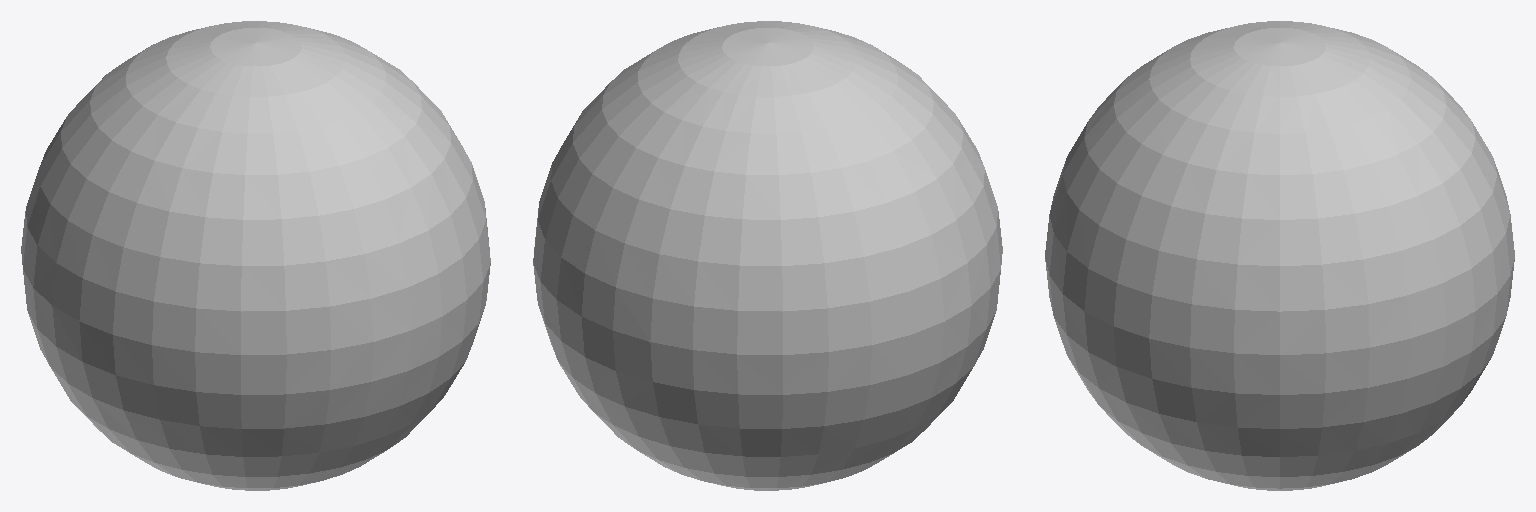
File: icub_simple_collision_l_shoulder_yaw_link.obj
3 renders of one model, left to right at view 1: azimuth 30°, elevation 25°; view 2: azimuth 150°, elevation 25°; view 3: azimuth 270°, elevation 25°, orthographic.
Visible parts, largest first — view 1: Sphere; view 2: Sphere; view 3: Sphere.
Part boxes in pixels (x1,y1,x2,y2): Sphere: (21, 21, 490, 490); Sphere: (533, 21, 1002, 490); Sphere: (1045, 21, 1514, 490).
Bounding box in the file's own units: 0.001 × 0.001 × 0.001.